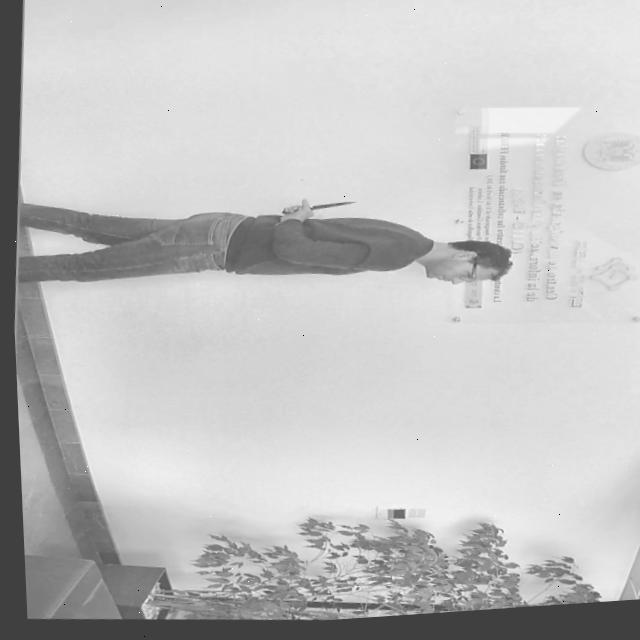knife: (307, 199, 355, 222)
